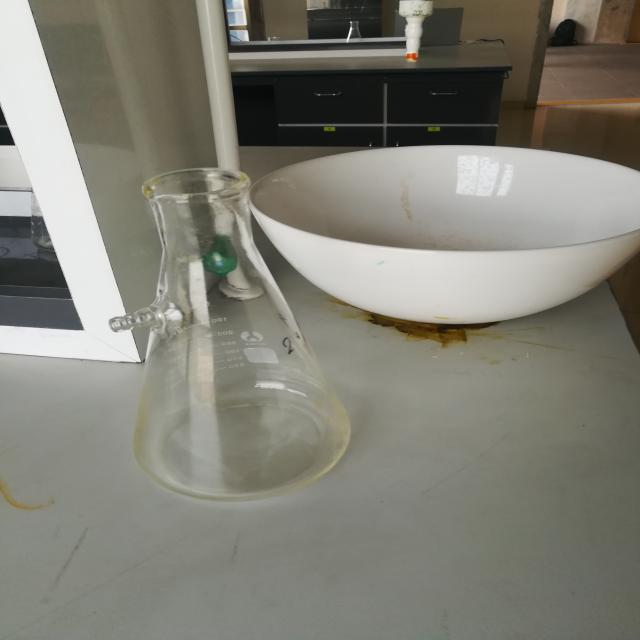Conical_Flask: (84, 107, 385, 528)
